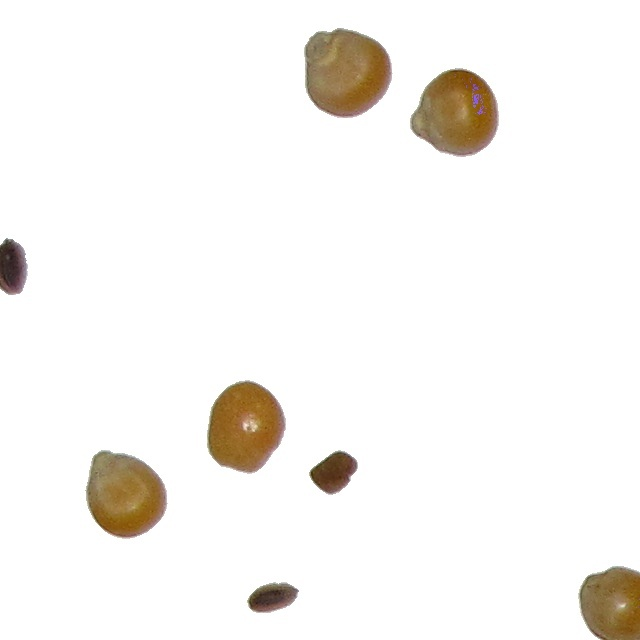buckwheat: (308, 449, 359, 496), (246, 581, 300, 614)
mais: (303, 27, 394, 119), (409, 67, 500, 158), (206, 379, 287, 475), (84, 449, 169, 540), (577, 565, 640, 640)
